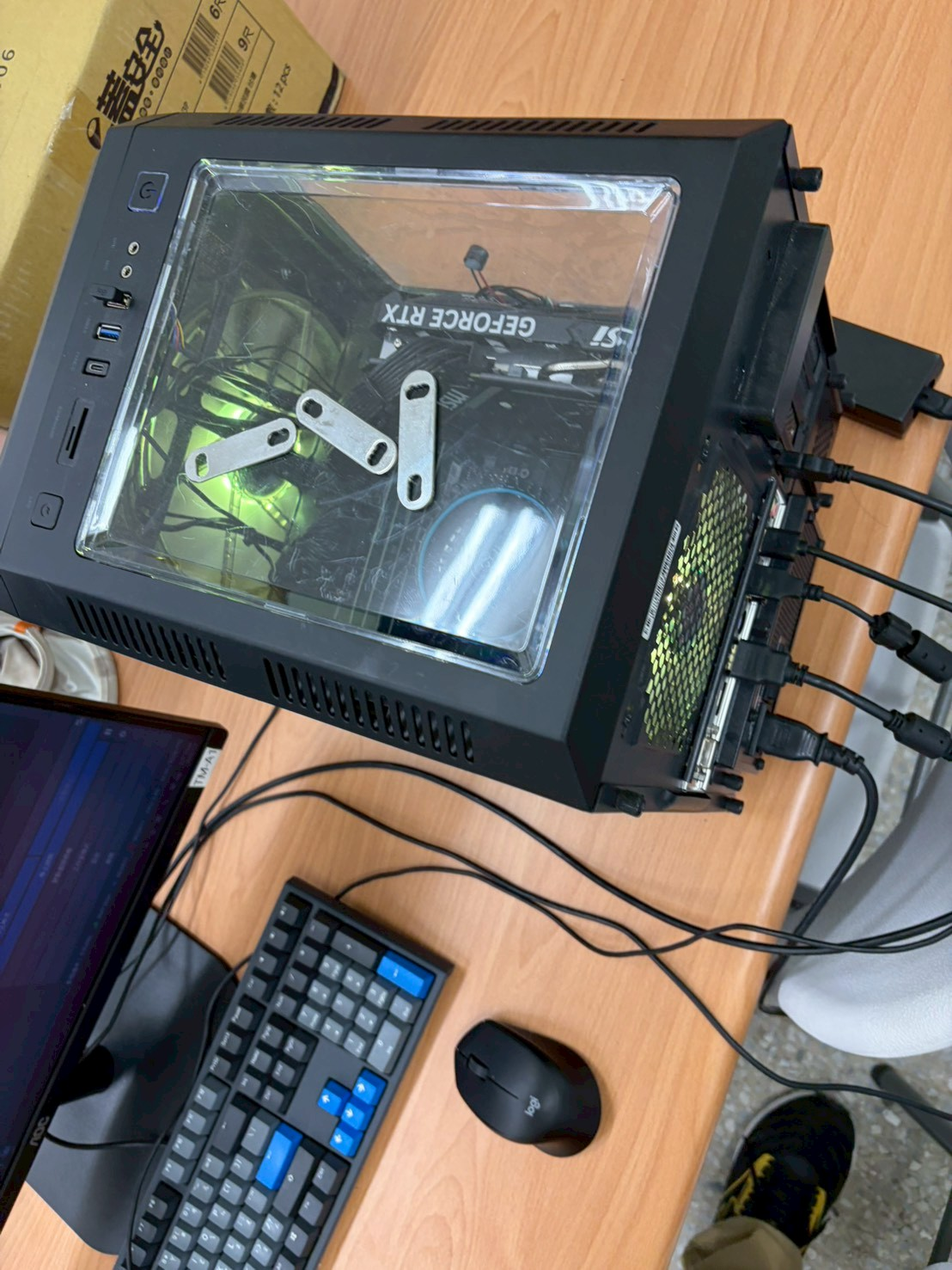Fe: (280, 368, 389, 480), (396, 344, 455, 515), (173, 414, 290, 487)
